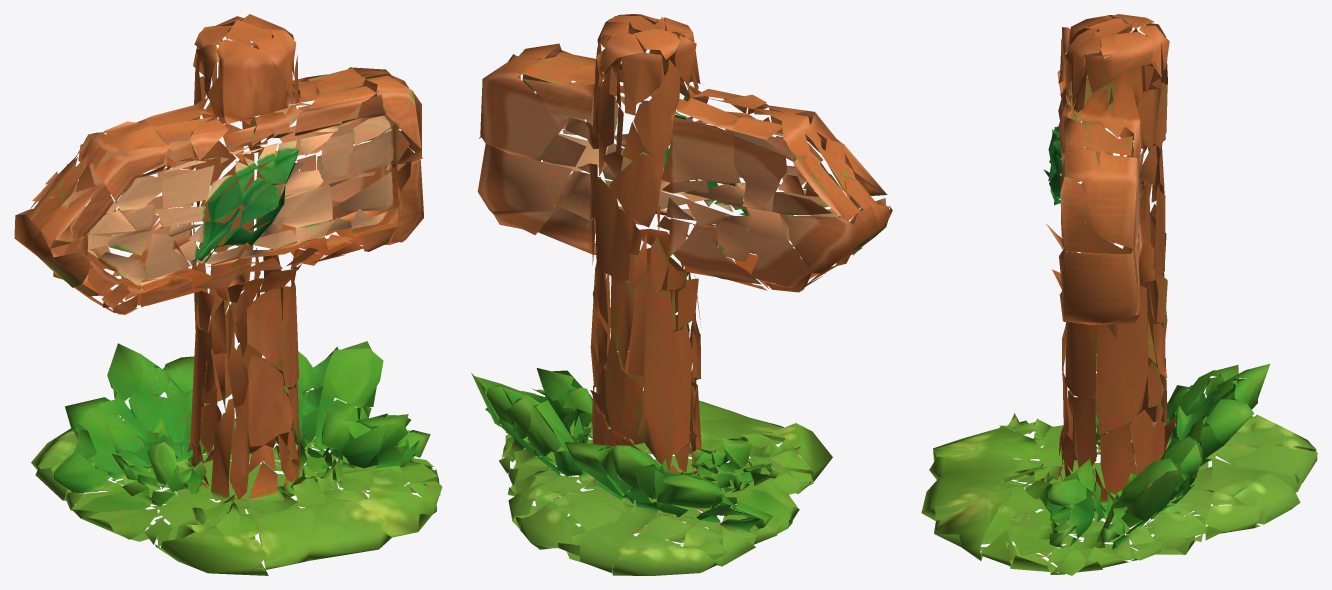
Rendered from sign.glb.
The picture shows the model from 3 angles, left to right: view 1: azimuth 30°, elevation 25°; view 2: azimuth 150°, elevation 25°; view 3: azimuth 270°, elevation 25°; orthographic projection.
Visible parts, largest first — view 1: Mesh_0; view 2: Mesh_0; view 3: Mesh_0.
Part boxes in pixels (x1,y1,x2,y2): Mesh_0: (14,14,442,575); Mesh_0: (471,14,892,575); Mesh_0: (921,14,1317,575).
Size of the model in its own units: 1.67 by 1.94 by 1.44.
1 material, 1 textured.
